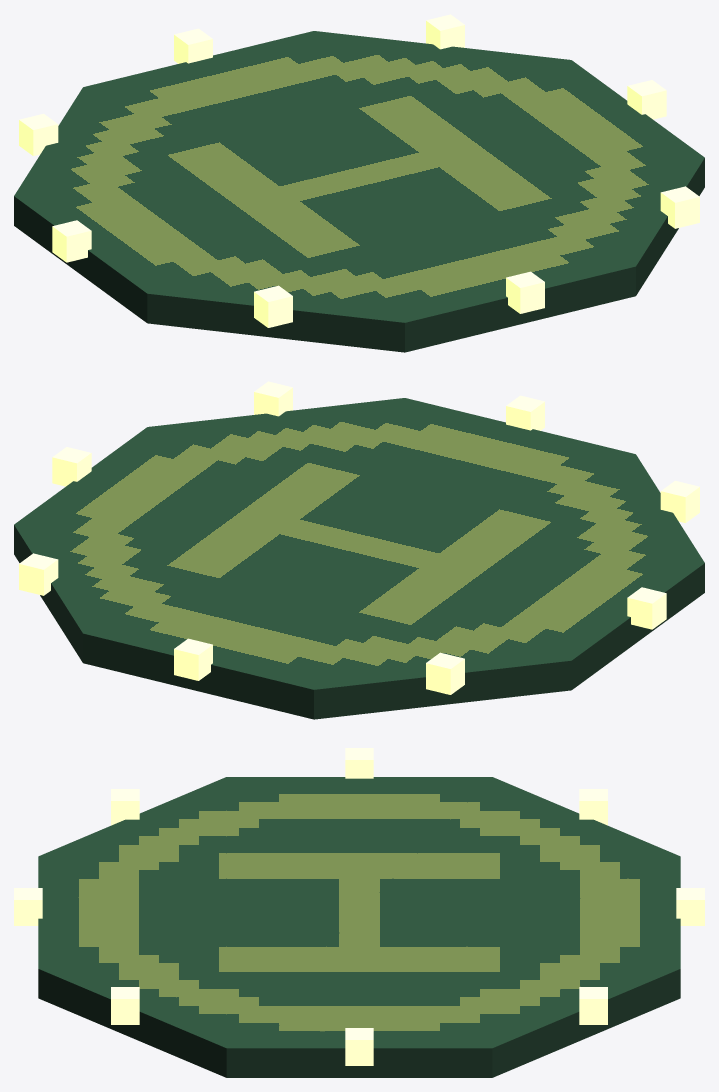
File: pad.glb
The picture shows the model from 3 angles, top to bottom: view 1: azimuth 30°, elevation 25°; view 2: azimuth 150°, elevation 25°; view 3: azimuth 270°, elevation 25°; orthographic projection.
Visible parts, largest first — view 1: Pad, Lights; view 2: Pad, Lights; view 3: Pad, Lights.
Part boxes in pixels (<box>): Pad: <box>14,31,704,352</box>; Lights: <box>19,14,699,327</box>; Pad: <box>14,398,704,719</box>; Lights: <box>19,381,699,694</box>; Pad: <box>38,777,680,1077</box>; Lights: <box>14,748,704,1065</box>.
Size of the model in its own units: 3.38 by 0.26 by 3.38.
3 materials, 1 textured.
